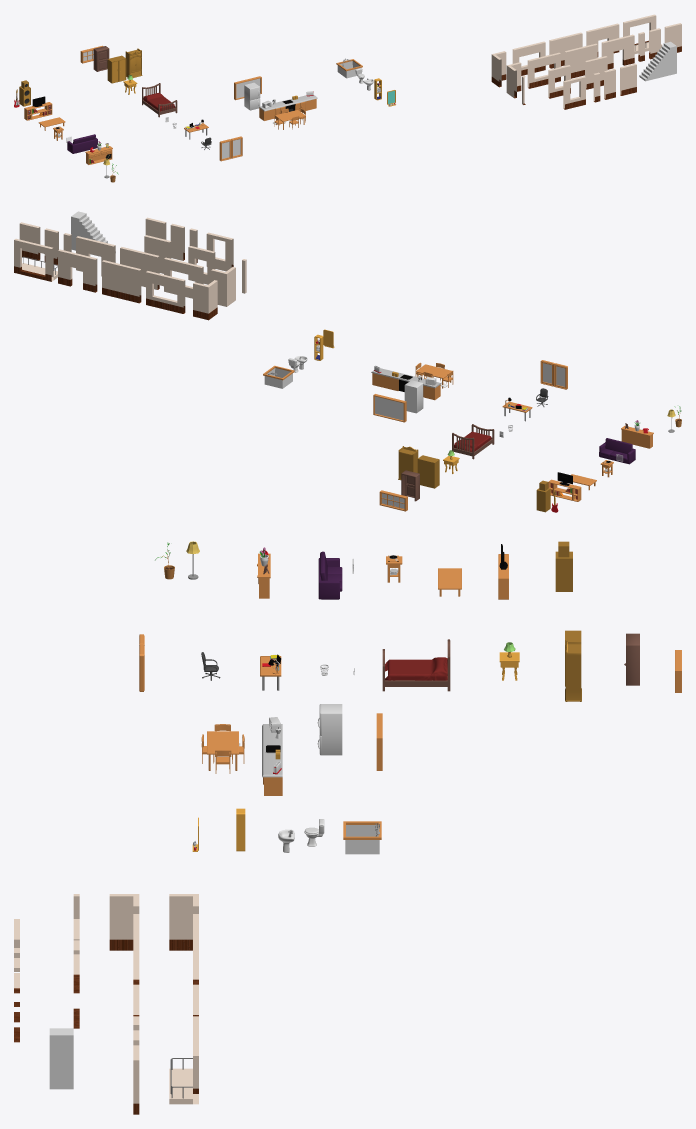
Rendered from AssetsCompleto.fbx.
3 views of the same model, one above another, from view 1: azimuth 30°, elevation 25°; view 2: azimuth 150°, elevation 25°; view 3: azimuth 270°, elevation 25° (orthographic). The views are drawn at different scales.
Parts seen in each view (by area): view 1: Escaleras, PuertaExterior, Pared6x5_Exterior, Ventana4x2_Exterior, CamaSimple, Pared6x5_Interior, Ventana2x3_Exterior, Ventana4x2_Interior, PuertaInterior, Pared5x5_Exterior, Ventana2x2_Exterior, EsquinaI_Interior (+14 smaller); view 2: Pared6x5_Interior, PuertaInterior, Ventana4x2_Interior, Balcon, EsquinaI_Interior, CamaSimple, Pared6x5_Exterior, Ventana4x2_Exterior, VentanaCocina.002, EsquinaI_Exterior, Escaleras, PuertaExterior (+13 smaller); view 3: CamaSimple, Escaleras, EsquinaI_Exterior, EsquinaI_Interior, Balcon, Bañera.001, Frigorifico.001, Armario2, SofaSimple.
Part boxes in pixels (x1,y1,x2,y2): Escaleras: (639,41,676,81); PuertaExterior: (601,34,634,69); Pared6x5_Exterior: (564,43,597,78); Ventana4x2_Exterior: (527,52,560,88); CamaSimple: (142,83,177,117); Pared6x5_Interior: (549,32,582,68); Ventana2x3_Exterior: (563,76,585,109); Ventana4x2_Interior: (512,41,545,75); PuertaInterior: (586,23,619,56); Pared5x5_Exterior: (585,56,607,89); Ventana2x2_Exterior: (548,65,570,98); EsquinaI_Interior: (491,51,506,87); Pared6x5_Interior: (102,260,141,303); PuertaInterior: (58,249,97,292); Ventana4x2_Interior: (146,271,185,313); Balcon: (14,238,57,281); EsquinaI_Interior: (193,280,217,320); CamaSimple: (452,424,494,459); Pared6x5_Exterior: (120,247,159,289); Ventana4x2_Exterior: (164,257,203,298); VentanaCocina.002: (373,394,406,422); EsquinaI_Exterior: (211,267,235,306); Escaleras: (71,211,115,256); PuertaExterior: (76,236,115,276); CamaSimple: (382,639,450,691); Escaleras: (49,1028,73,1089); EsquinaI_Exterior: (109,894,139,950); EsquinaI_Interior: (169,894,198,950); Balcon: (169,1020,198,1104); Bañera.001: (343,821,381,854); Frigorifico.001: (321,704,342,755); Armario2: (565,640,581,701); SofaSimple: (318,551,342,599).
Size of the model in its own units: 107 by 5.03 by 55.93.
